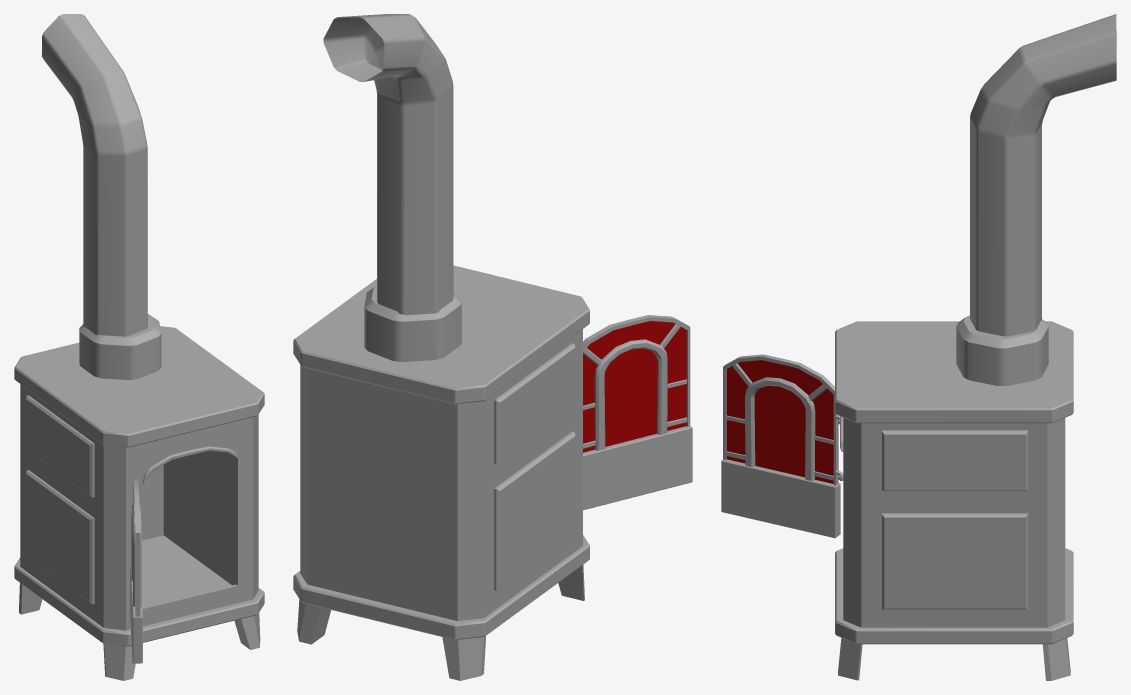
The model's file is Asset_stove.fbx.
3 renders of one model, left to right at view 1: azimuth 30°, elevation 25°; view 2: azimuth 150°, elevation 25°; view 3: azimuth 270°, elevation 25°, orthographic. The views are drawn at different scales.
Parts seen in each view (by area): view 1: pCylinder39; view 2: pCylinder39; view 3: pCylinder39.
Part boxes in pixels (x1,y1,x2,y2): pCylinder39: (14, 14, 264, 680); pCylinder39: (293, 14, 692, 680); pCylinder39: (721, 14, 1116, 680).
Size of the model in its own units: 4.27 by 11.98 by 6.91.
